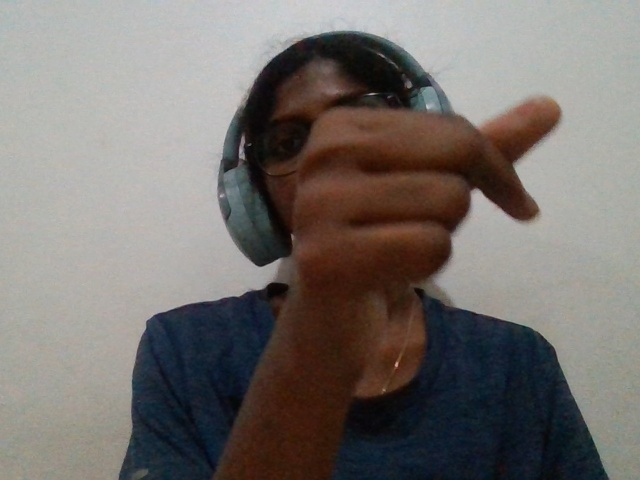G: (243, 67, 583, 404)
